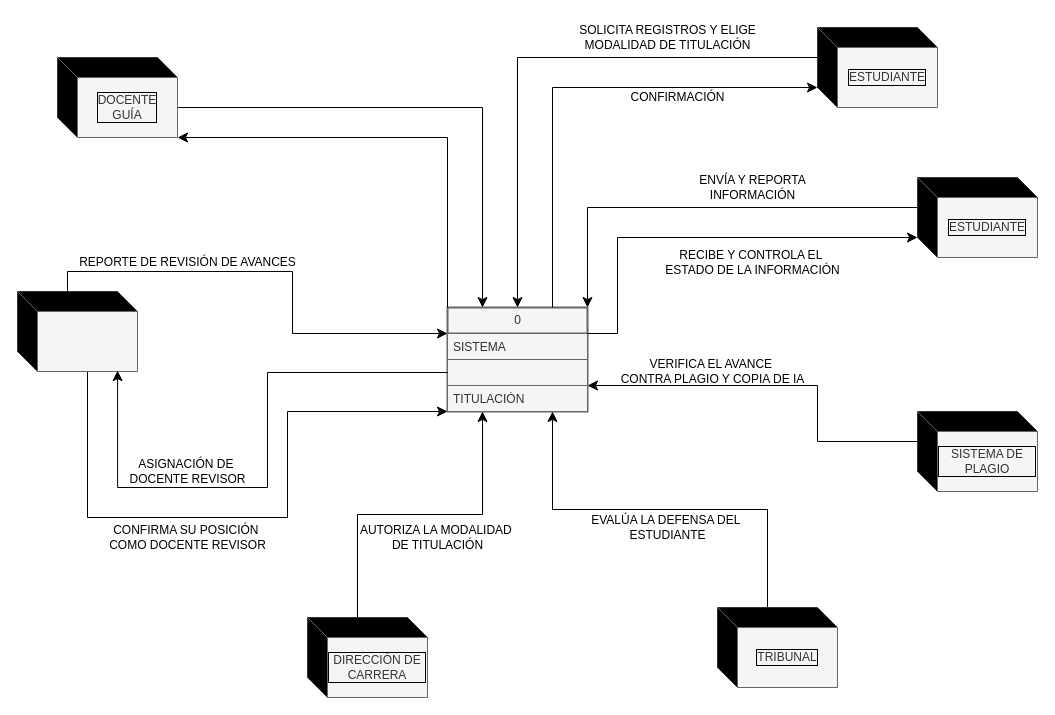
This 1055x715 diagram has some shape labels left out. Here are the shapes that lost their labels. From the top down, the centre of each, then its label:
At [77,331]: "DOCENTE REVISOR".
At [517,372]: "DE".
